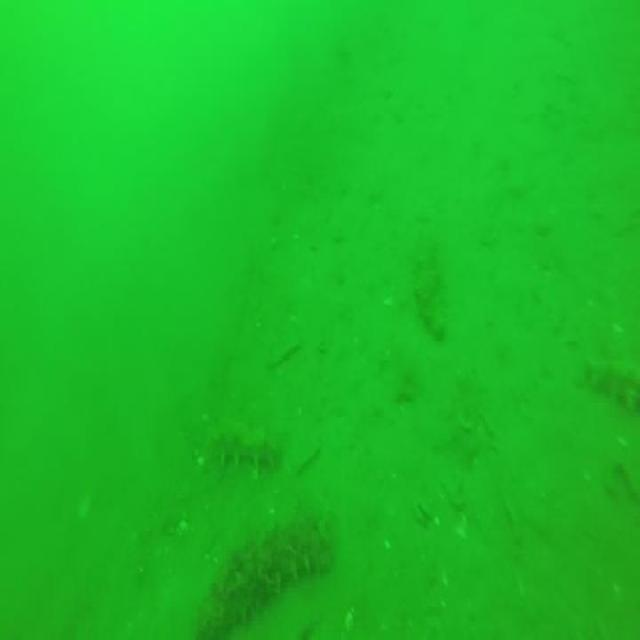holothurian: (186, 515, 332, 640), (209, 416, 279, 484), (412, 240, 446, 342), (585, 351, 640, 412)
